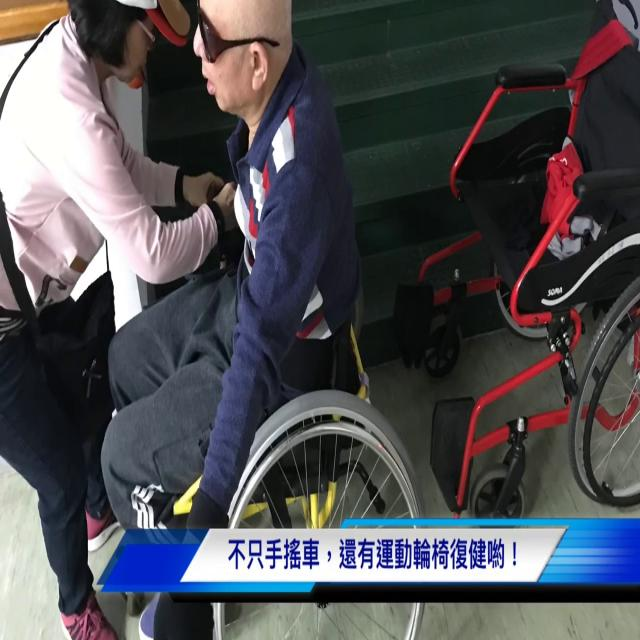wheelchairs: (385, 0, 640, 537), (118, 223, 439, 640)
